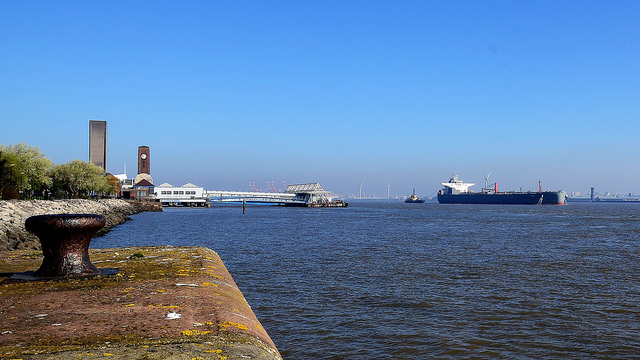tanker: (437, 178, 571, 204)
tug_boat: (399, 184, 424, 210)
